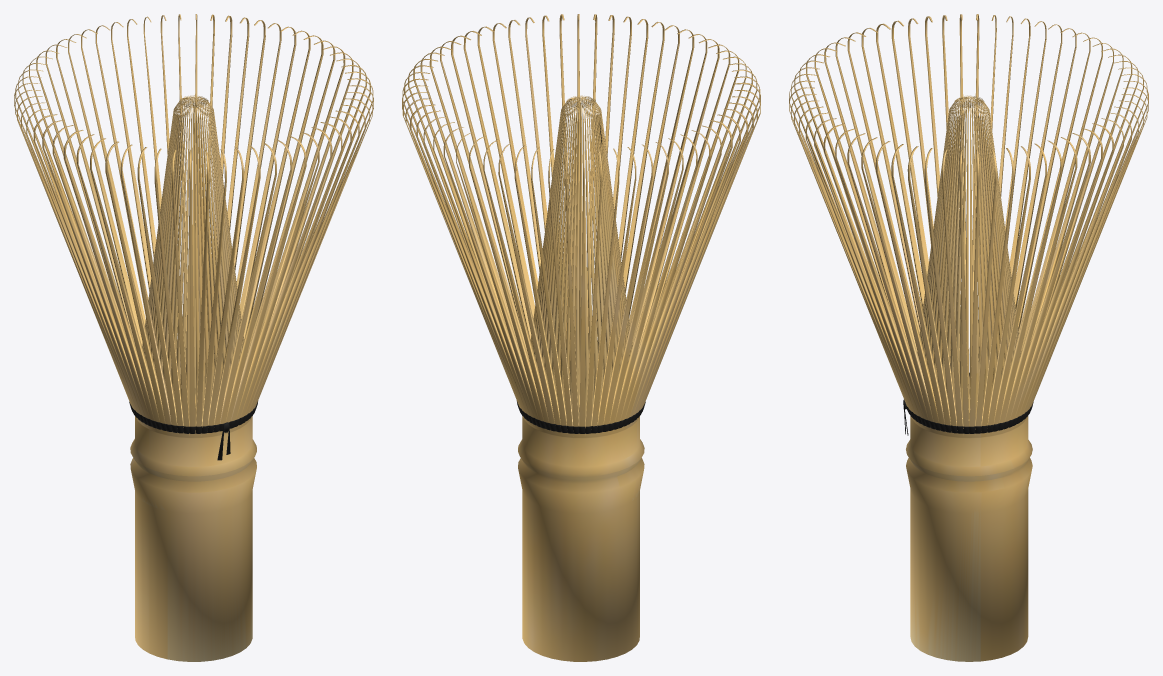
File: chasen.glb
3 views of the same model, side by side, from view 1: azimuth 30°, elevation 25°; view 2: azimuth 150°, elevation 25°; view 3: azimuth 270°, elevation 25° (orthographic).
Visible parts, largest first — view 1: Object_2, Object_3; view 2: Object_2, Object_3; view 3: Object_2, Object_3.
Part boxes in pixels (x1=…): Object_2: x1=14, y1=14, x2=373, y2=661; Object_3: x1=129, y1=401, x2=257, y2=433; Object_2: x1=402, y1=14, x2=760, y2=661; Object_3: x1=517, y1=401, x2=645, y2=433; Object_2: x1=789, y1=14, x2=1148, y2=661; Object_3: x1=905, y1=372, x2=1033, y2=433.
Size of the model in its own units: 0.0706 by 0.12 by 0.0708.
Materials: 2 (2 with a texture image).
